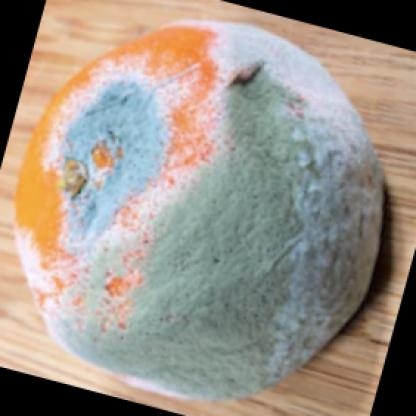rotten: (15, 21, 388, 401)
